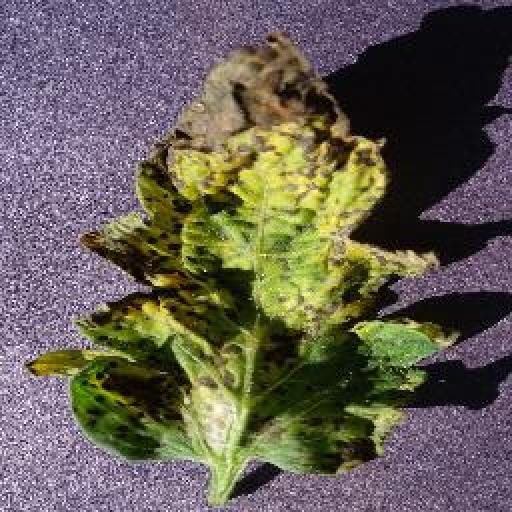Septoria: (26, 24, 456, 485)
